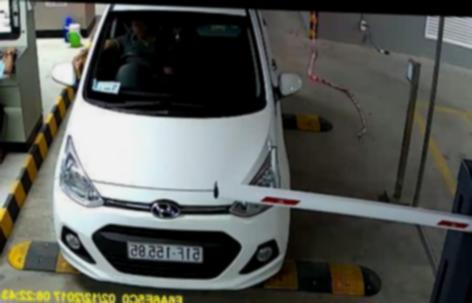License_Plate: (125, 238, 207, 267)
